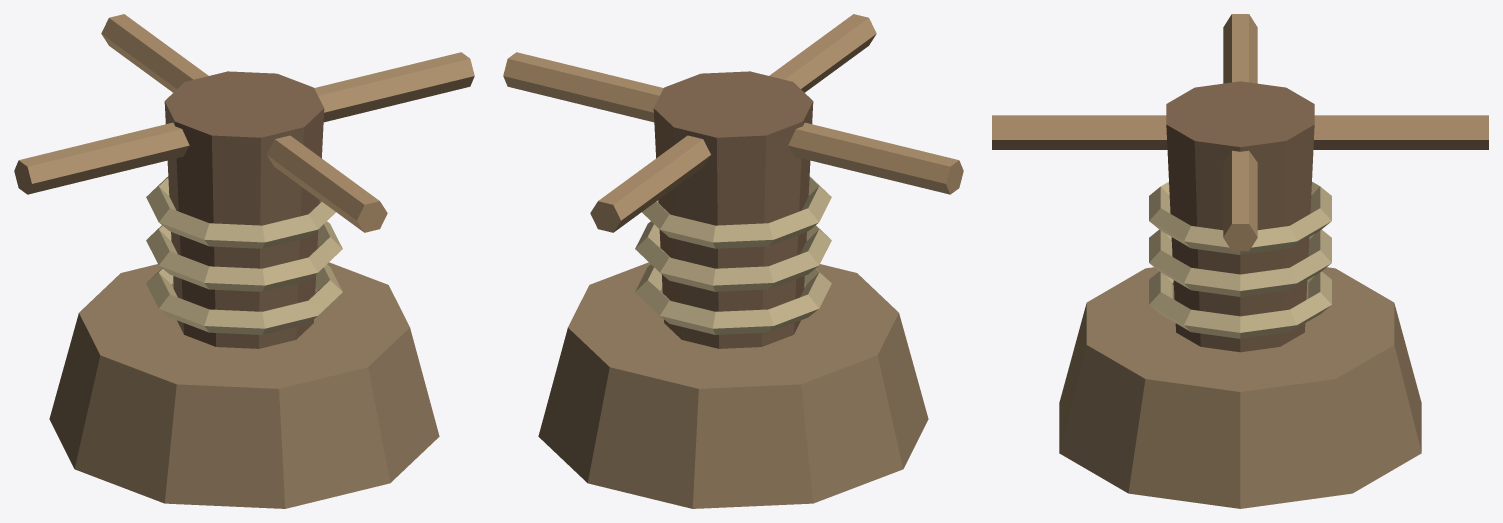
The model's file is map-exclusive-v3__shore_03.glb.
The picture shows the model from 3 angles, left to right: view 1: azimuth 30°, elevation 25°; view 2: azimuth 150°, elevation 25°; view 3: azimuth 270°, elevation 25°; orthographic projection. The views are drawn at different scales.
Visible parts, largest first — view 1: shore_03; view 2: shore_03; view 3: shore_03.
Boxes of the visible parts, bbox=[...] form: shore_03: bbox=[14, 14, 474, 508]; shore_03: bbox=[503, 14, 963, 508]; shore_03: bbox=[992, 14, 1488, 508].
Bounding box in the file's own units: 1.72 × 1.2 × 1.72.
